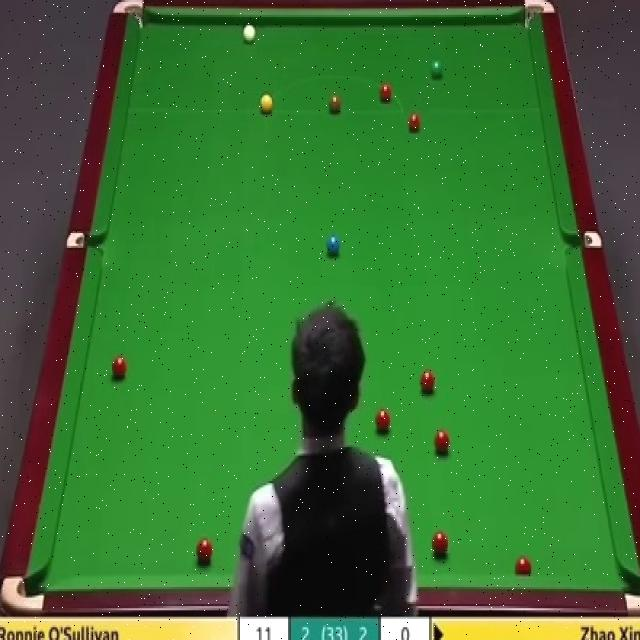blue-ball: (326, 233, 340, 258)
brown-ball: (326, 92, 342, 115)
green-ball: (428, 60, 444, 80)
red-ball: (418, 368, 436, 398), (110, 354, 128, 382), (431, 531, 448, 559), (433, 426, 449, 454), (197, 536, 213, 564), (374, 408, 390, 434), (407, 110, 422, 135), (516, 554, 530, 576), (378, 82, 392, 102)
white-ball: (242, 22, 258, 45)
yellow-ball: (259, 92, 273, 113)
